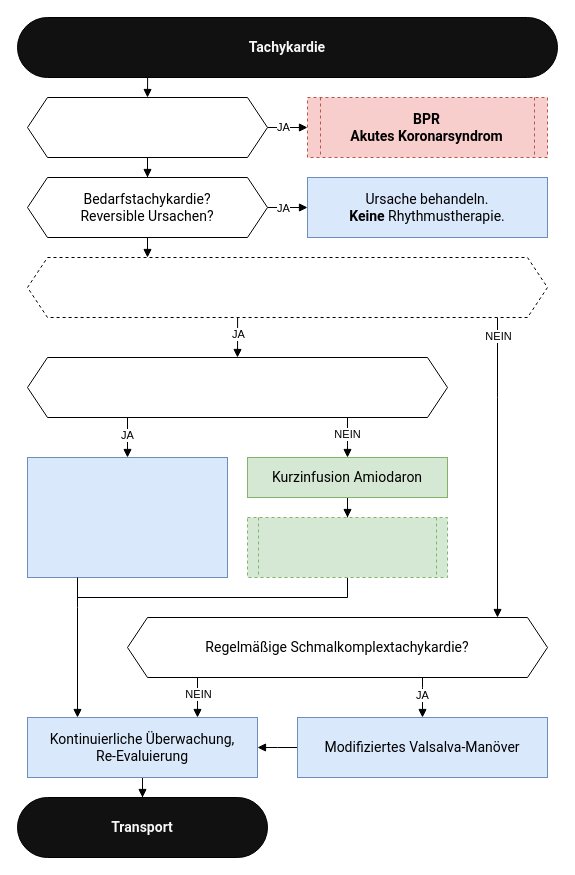
Image size: 575x875. Some labels were removed from this diagram. Here are the shapes that lost their labels. From the top down, the box of each, then its label:
(26, 96, 268, 158): Akutes Koronarsyndrom?
(26, 256, 548, 318): Instabilitätszeichen?
(26, 356, 448, 418): Bewusstlos?
(26, 456, 228, 578): Kardioversion
(246, 516, 448, 578): SAA Amiodaron
